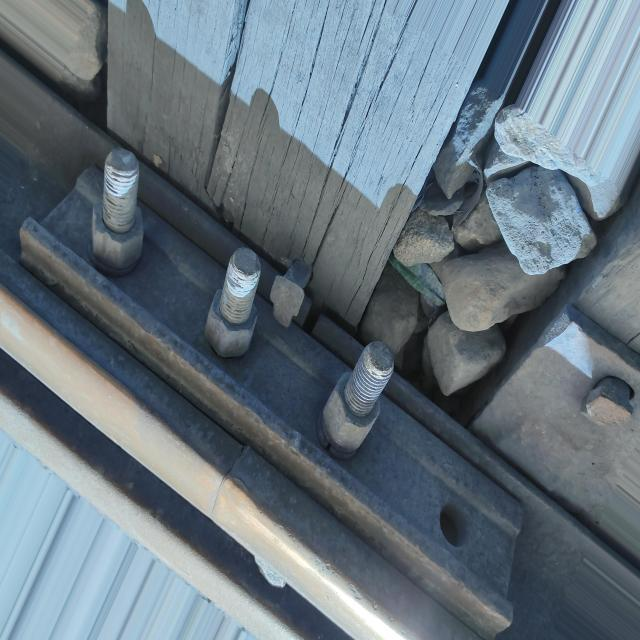Defective Joint: (20, 148, 521, 638)
